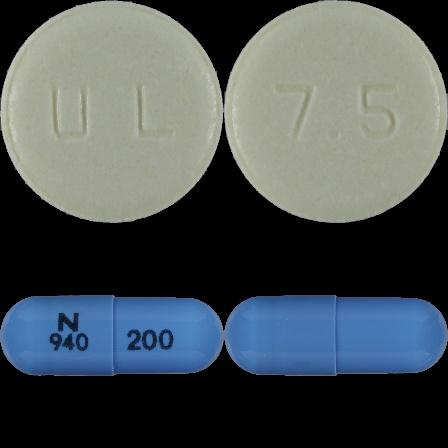55289-272: (0, 0, 224, 224)
